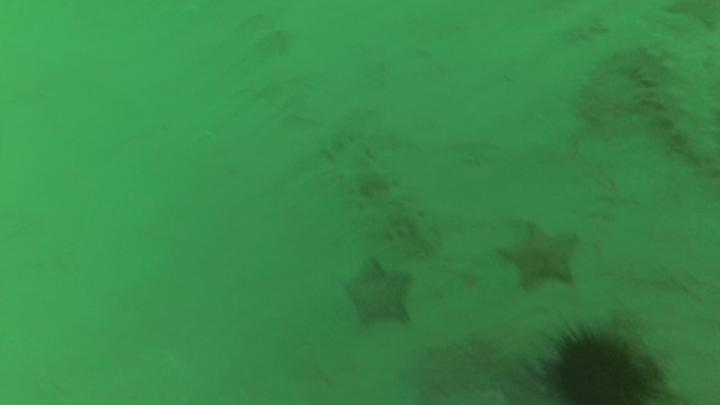echinus: (553, 337, 646, 405)
holothurian: (319, 130, 431, 245), (638, 50, 720, 169)
starfish: (499, 225, 578, 288), (342, 262, 417, 326)
